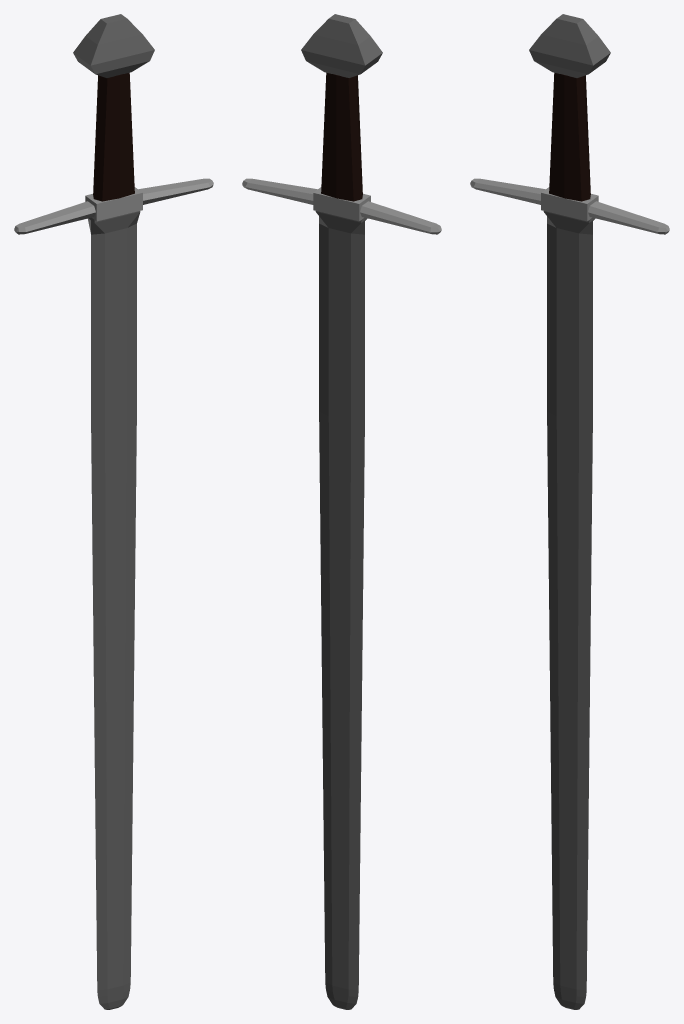
Rendered from SwordModel.fbx.
3 views of the same model, side by side, from view 1: azimuth 30°, elevation 25°; view 2: azimuth 150°, elevation 25°; view 3: azimuth 330°, elevation 25° (orthographic).
Visible parts, largest first — view 1: Blade, Sword, Head, CrossGuard.001, RainGuard, CrossGuard; view 2: Blade, Sword, Head, CrossGuard.001, RainGuard, CrossGuard; view 3: Blade, Sword, Head, CrossGuard, RainGuard, CrossGuard.001.
Part boxes in pixels (x1=…): Blade: x1=88, y1=211, x2=140, y2=1009; Sword: x1=93, y1=72, x2=134, y2=201; Head: x1=73, y1=14, x2=154, y2=77; CrossGuard.001: x1=14, y1=201, x2=95, y2=234; RainGuard: x1=85, y1=187, x2=142, y2=221; CrossGuard: x1=138, y1=178, x2=213, y2=204; Blade: x1=315, y1=211, x2=367, y2=1009; Sword: x1=321, y1=72, x2=362, y2=201; Head: x1=301, y1=14, x2=382, y2=77; CrossGuard.001: x1=360, y1=201, x2=441, y2=234; RainGuard: x1=313, y1=187, x2=370, y2=221; CrossGuard: x1=242, y1=178, x2=317, y2=204; Blade: x1=543, y1=211, x2=595, y2=1009; Sword: x1=549, y1=72, x2=590, y2=201; Head: x1=529, y1=14, x2=610, y2=77; CrossGuard: x1=588, y1=201, x2=669, y2=234; RainGuard: x1=541, y1=187, x2=598, y2=221; CrossGuard.001: x1=470, y1=178, x2=545, y2=204.
Size of the model in its own units: 0.1882 by 0.8993 by 0.0291.
